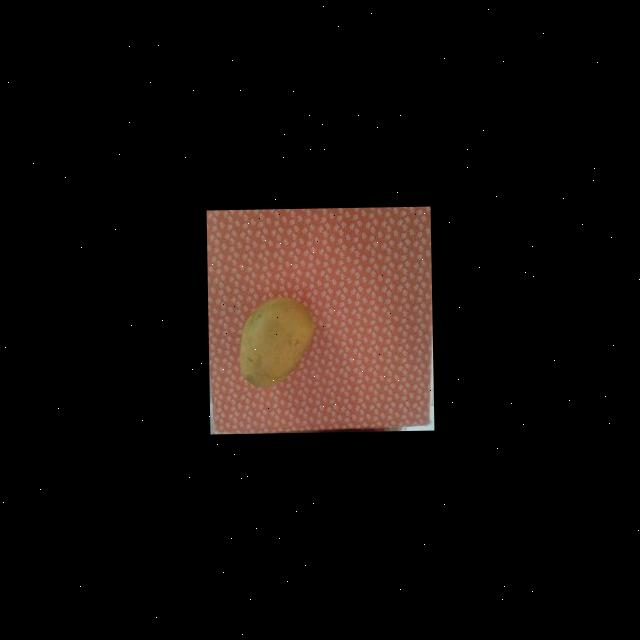Mango: (207, 207, 434, 434), (238, 296, 318, 389)
